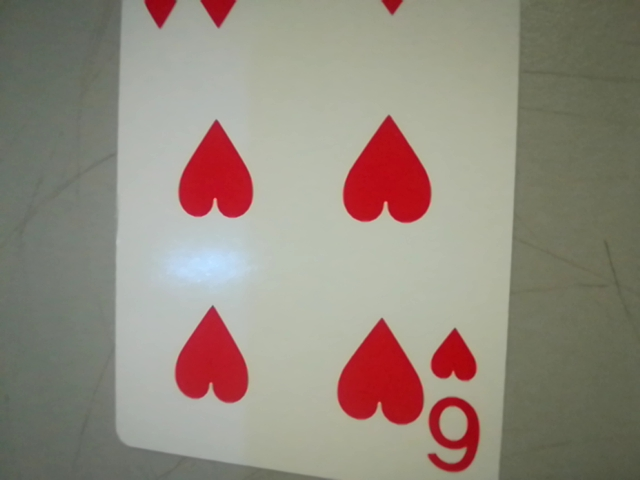hx 6: (419, 320, 497, 480)
